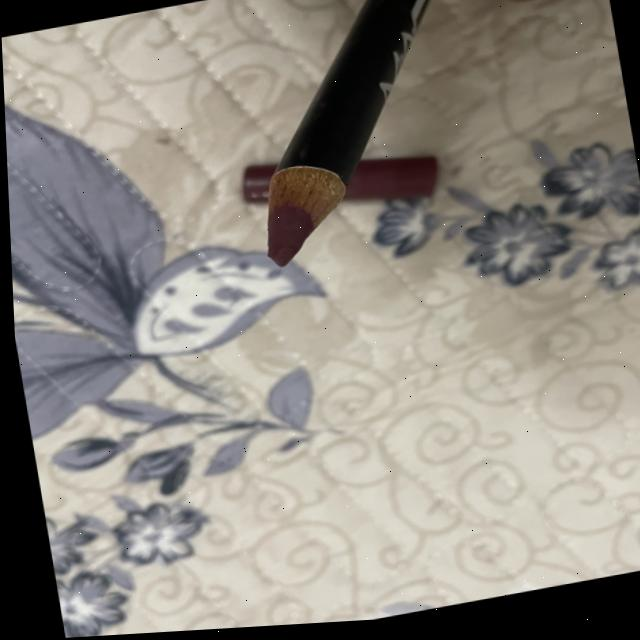lip liner: (217, 0, 490, 274)
